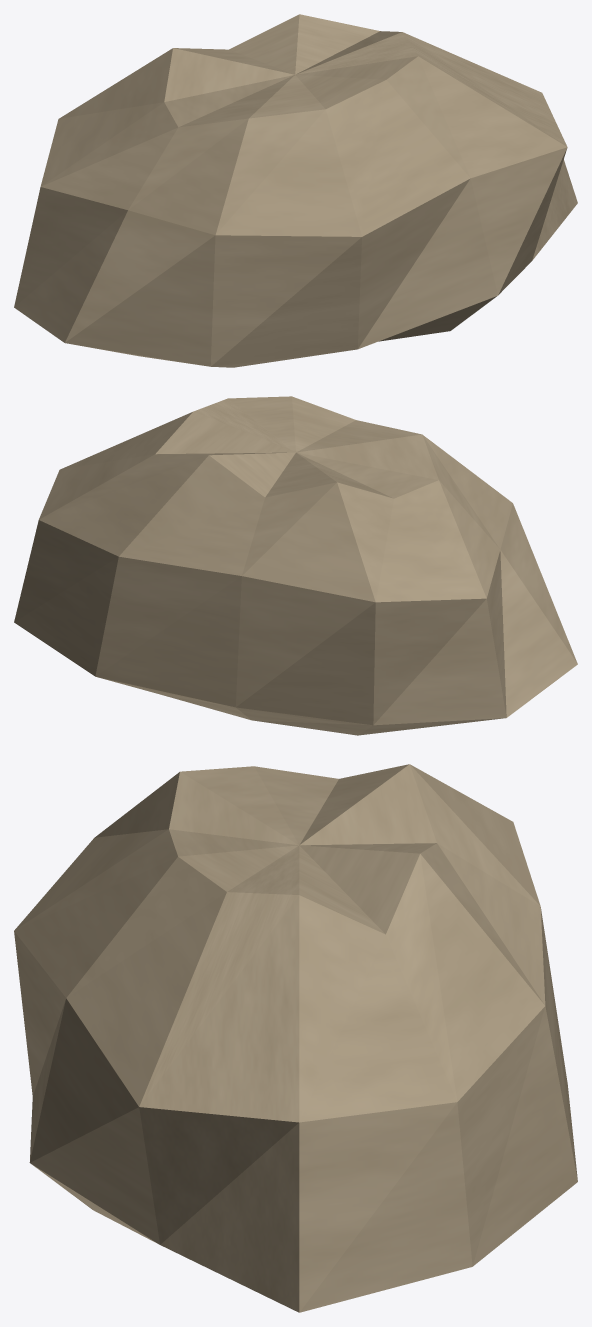
File: SM_CN_Caliche_B.fbx
3 views of the same model, one above another, from view 1: azimuth 30°, elevation 25°; view 2: azimuth 150°, elevation 25°; view 3: azimuth 270°, elevation 25° (orthographic). The views are drawn at different scales.
Visible parts, largest first — view 1: SM_CN_Caliche_B; view 2: SM_CN_Caliche_B; view 3: SM_CN_Caliche_B.
Boxes of the visible parts, x1,y1,x2,y2 form: SM_CN_Caliche_B: (14, 14, 577, 367); SM_CN_Caliche_B: (14, 396, 577, 735); SM_CN_Caliche_B: (14, 764, 577, 1312).
Bounding box in the file's own units: 0.88 × 0.5653 × 0.37.
